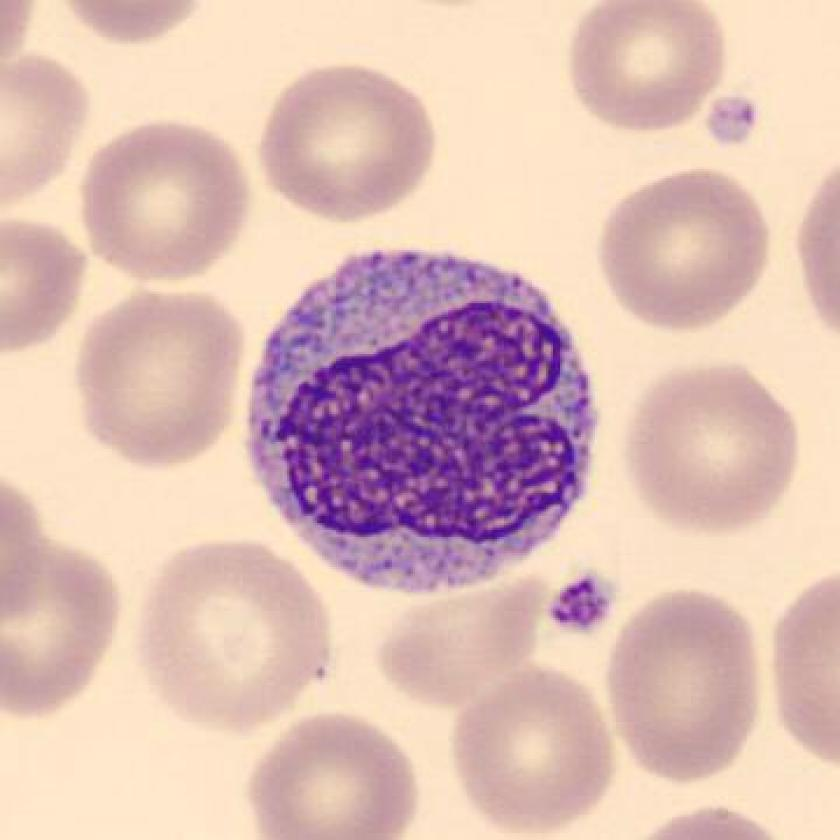monocyte: (230, 219, 610, 624)
